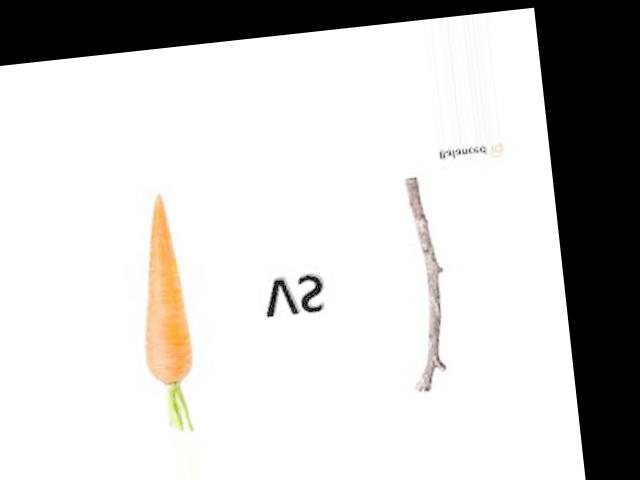carrot: (119, 185, 209, 392)
